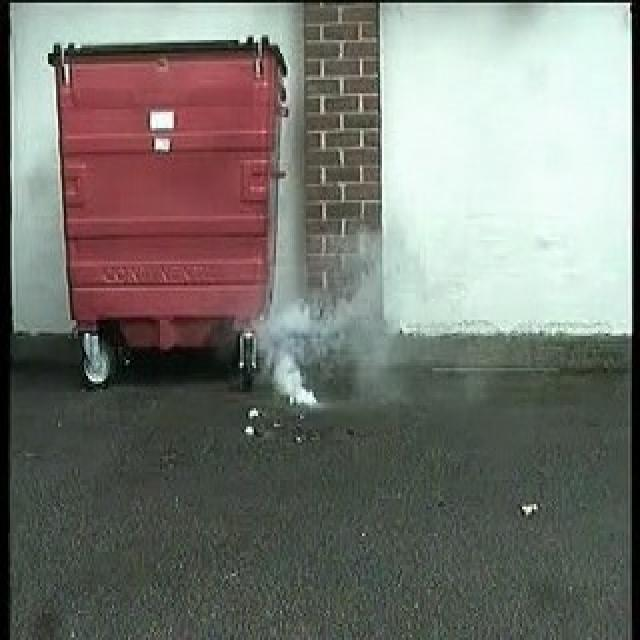Smoke: (254, 228, 401, 404)
